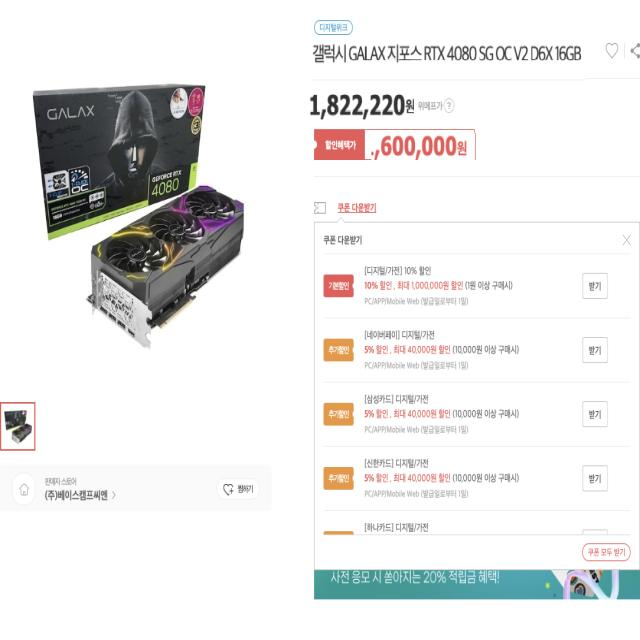product_discount_price: (371, 133, 476, 160)
product_name: (311, 36, 586, 82)
product_original_price: (309, 88, 414, 120)
